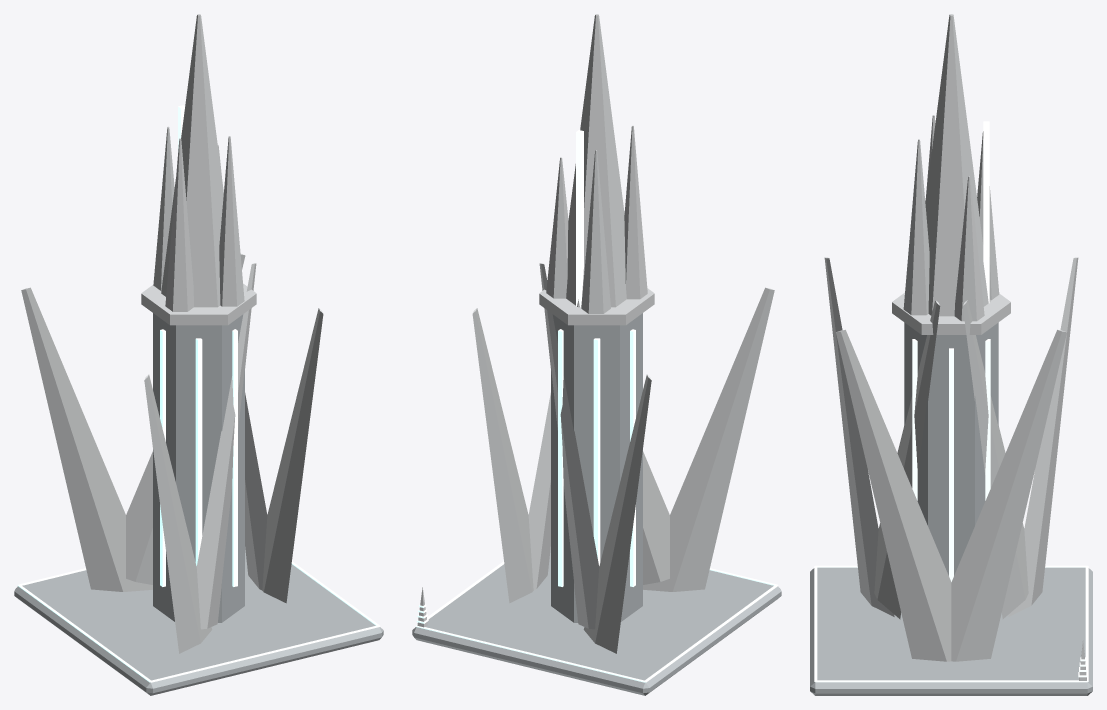
The model's file is zone_high_5_t4.glb.
The picture shows the model from 3 angles, left to right: view 1: azimuth 30°, elevation 25°; view 2: azimuth 150°, elevation 25°; view 3: azimuth 270°, elevation 25°; orthographic projection. The views are drawn at different scales.
Parts seen in each view (by area): view 1: zone_high_5_t4, detail; view 2: zone_high_5_t4, detail; view 3: zone_high_5_t4, detail.
Part boxes in pixels (bbox=[...]): zone_high_5_t4: bbox=[14, 14, 383, 695]; detail: bbox=[17, 561, 379, 682]; zone_high_5_t4: bbox=[412, 14, 781, 695]; detail: bbox=[416, 561, 778, 682]; zone_high_5_t4: bbox=[810, 14, 1092, 695]; detail: bbox=[814, 565, 1088, 682].
Size of the model in its own units: 27.5 by 69.13 by 27.5.
